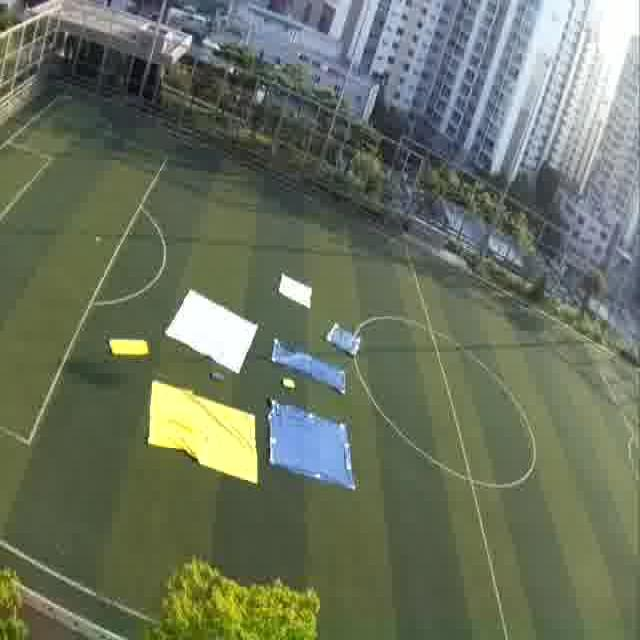danger: (266, 400, 364, 494), (270, 335, 320, 375), (324, 323, 366, 361)
safety: (168, 277, 259, 374), (272, 256, 327, 317)
warning: (144, 377, 263, 487), (105, 328, 156, 366)
